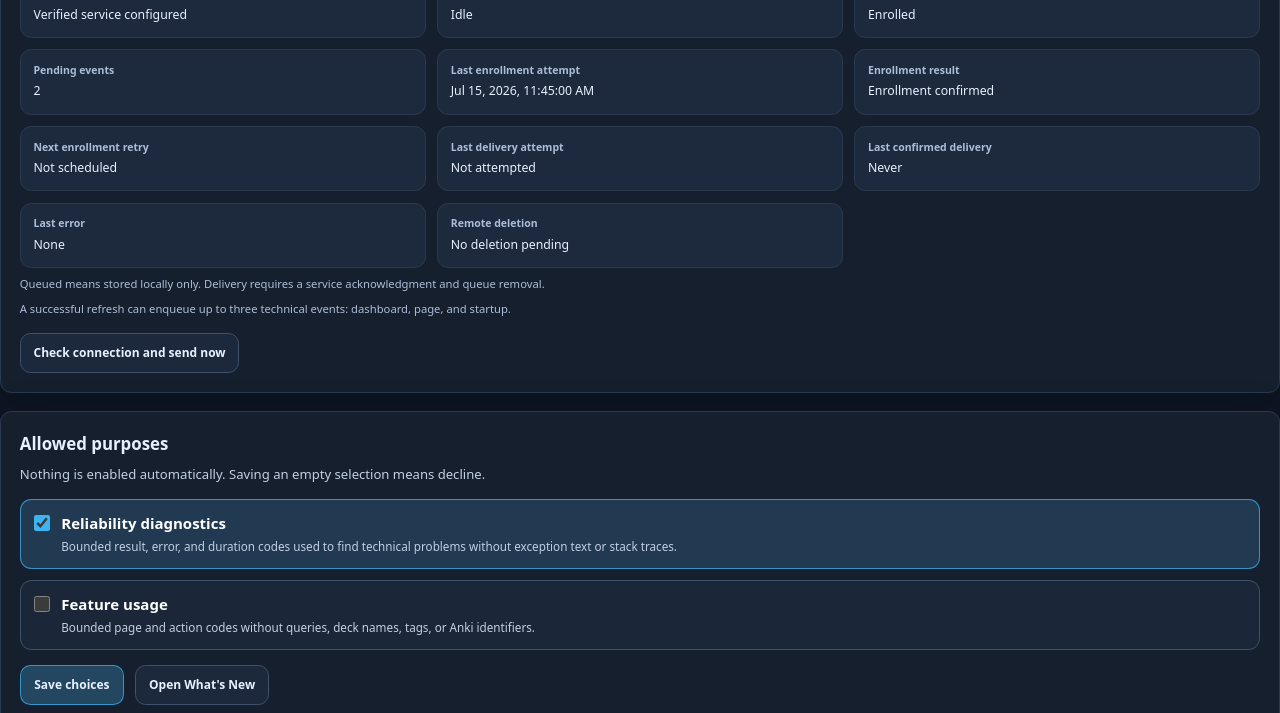
privacy settings › starts one manual background cycle and refreshes public status
The width and height of the screenshot is (1280, 713).
(page scrolled)
Click the button "Check connection and send now": [130, 353] box [20, 333, 239, 373]
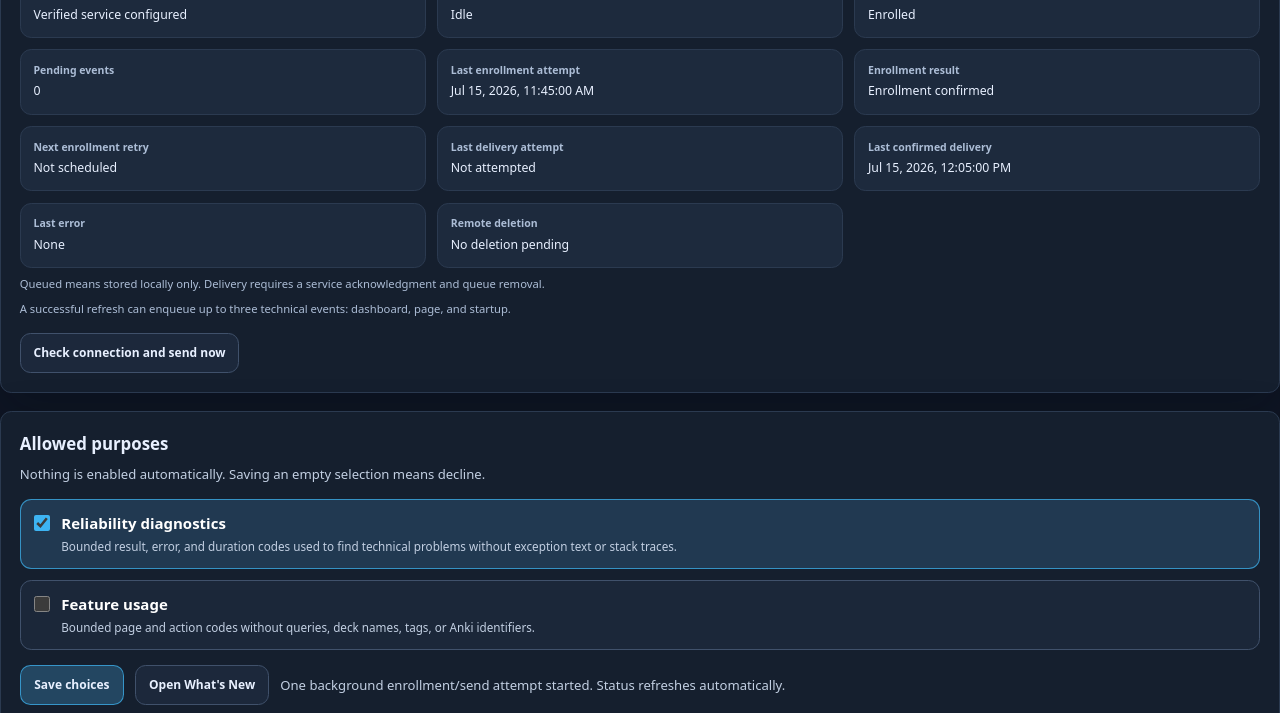
Expected: the text "0" is shown, [34, 82, 40, 99]
Expected: the text "One background enrollment/send attempt started" is shown, [280, 676, 785, 694]
